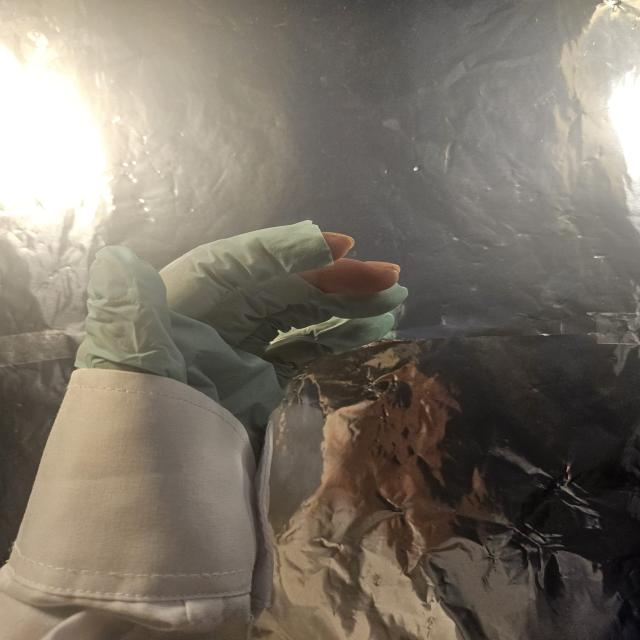gloves_damaged: (70, 219, 411, 442)
